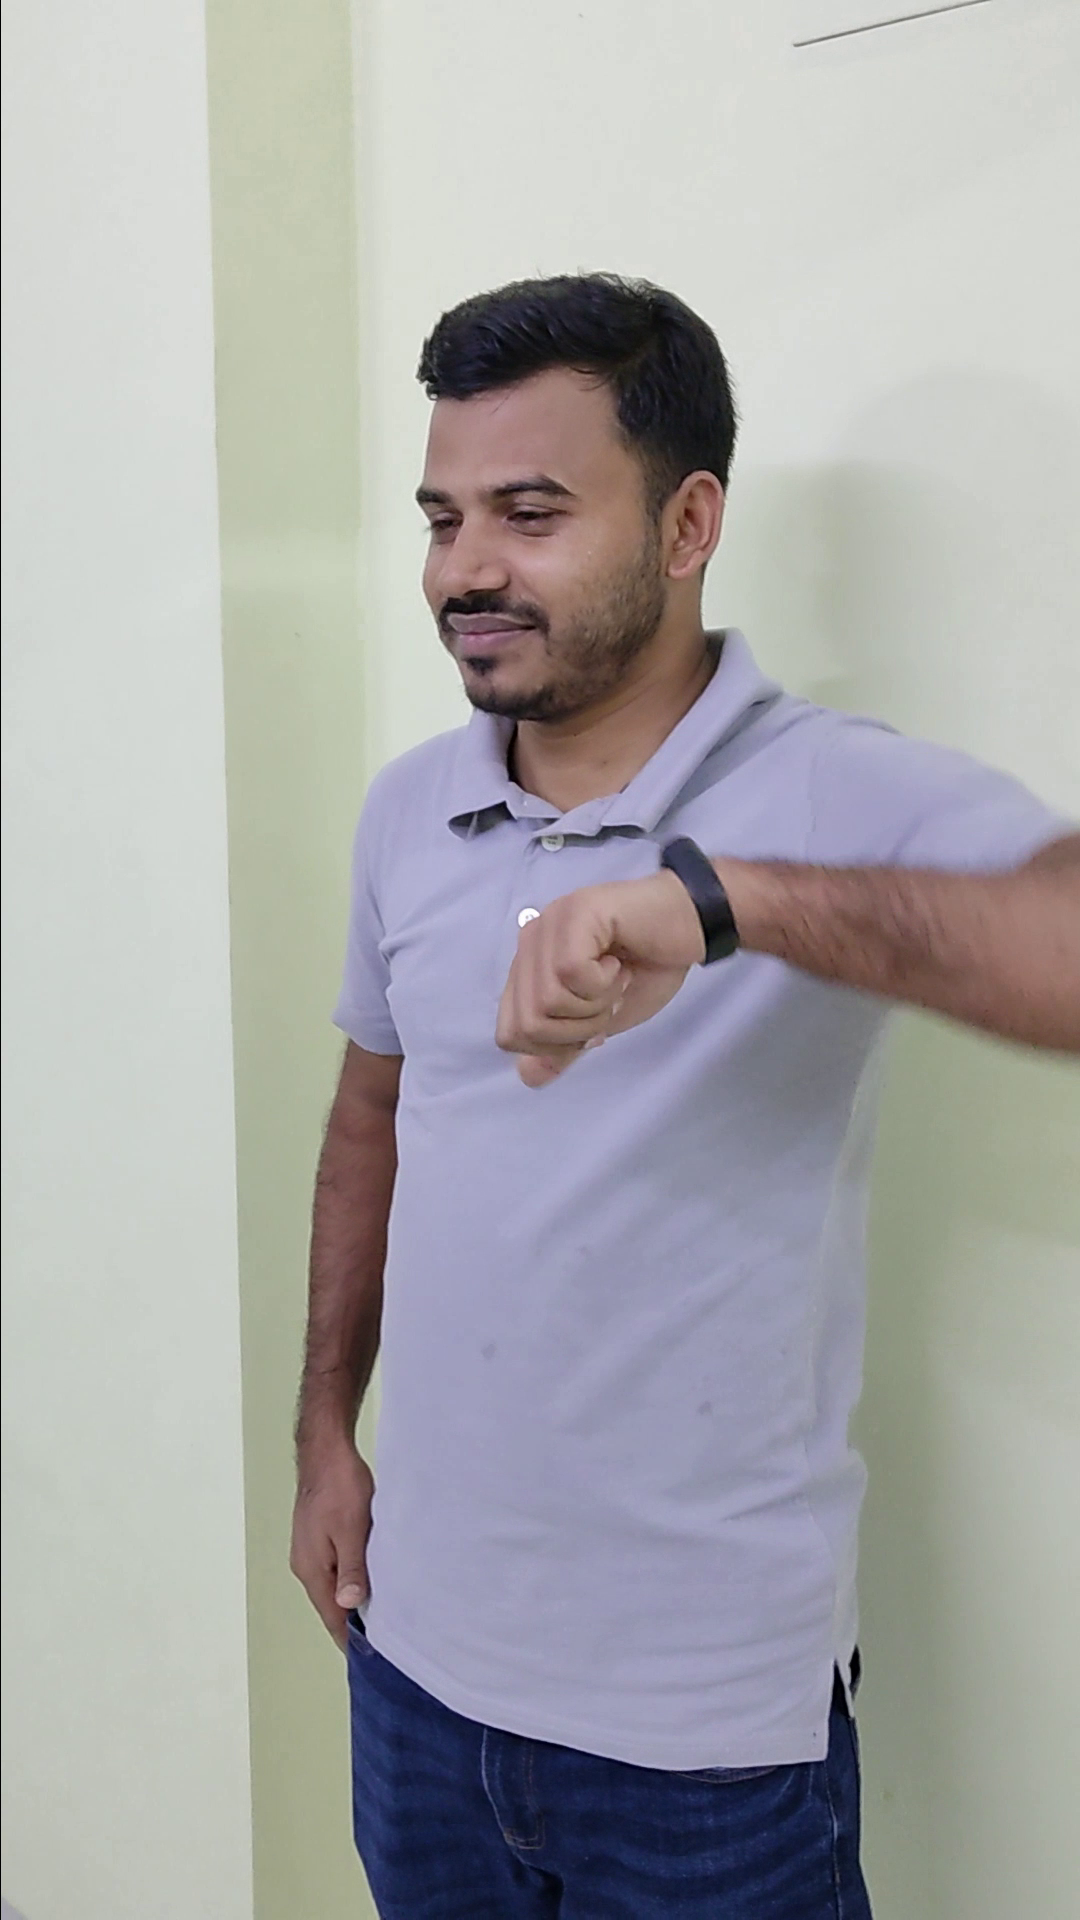Dislike: (473, 829, 756, 1098)
None: (261, 1379, 407, 1673)
